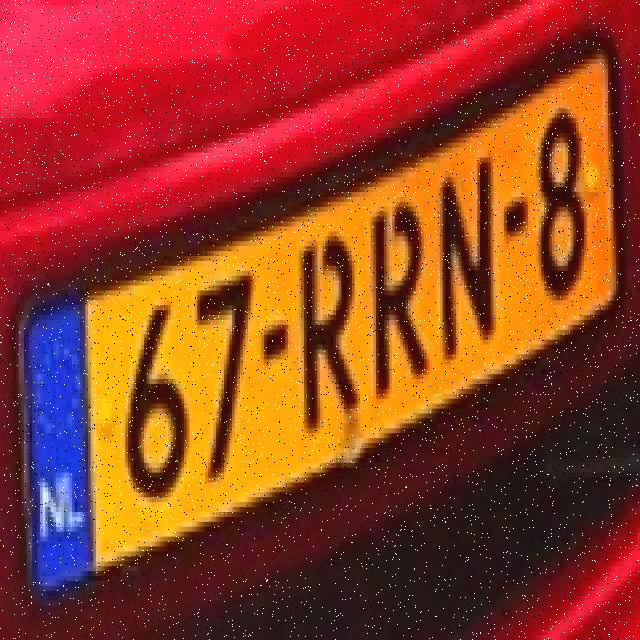licenseplate: (9, 43, 626, 602)
